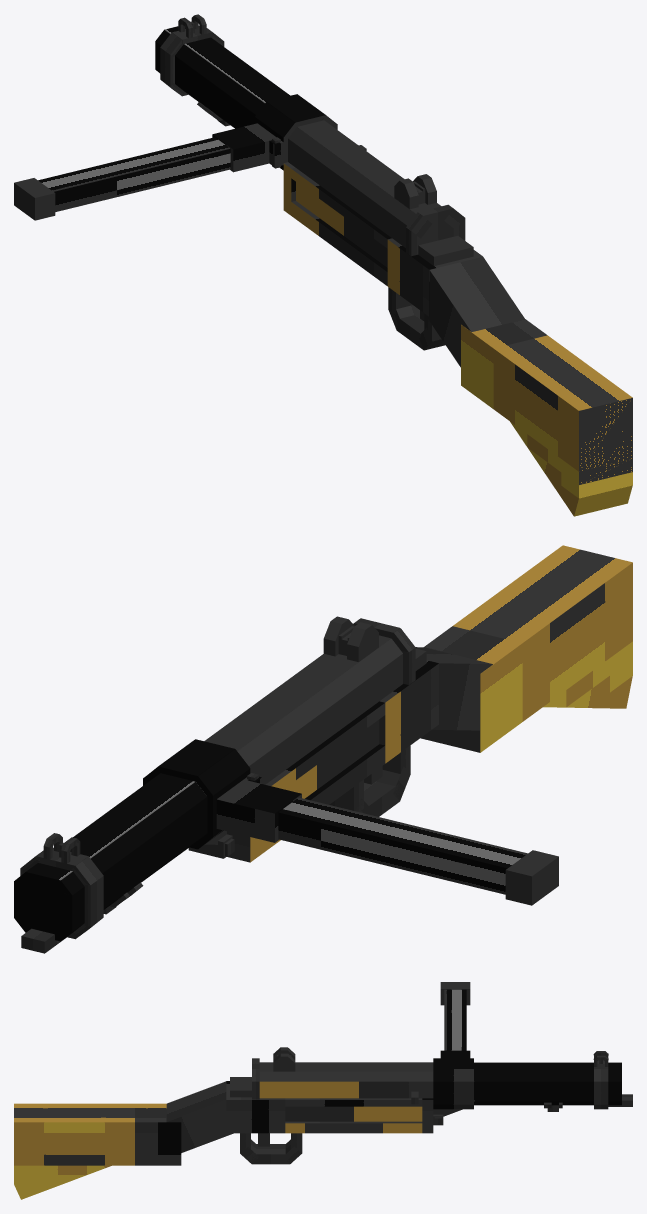
Rendered from mteg_lanchester.glb.
3 views of the same model, one above another, from view 1: azimuth 30°, elevation 25°; view 2: azimuth 150°, elevation 25°; view 3: azimuth 270°, elevation 25° (orthographic). The views are drawn at different scales.
Parts seen in each view (by area): view 1: Gun; view 2: Gun; view 3: Gun.
Part boxes in pixels (<box>): Gun: <box>14,14,632,516</box>; Gun: <box>14,545,632,953</box>; Gun: <box>14,982,632,1199</box>.
Bounding box in the file's own units: 0.4309 × 0.2587 × 1.05.
1 material, 1 textured.
